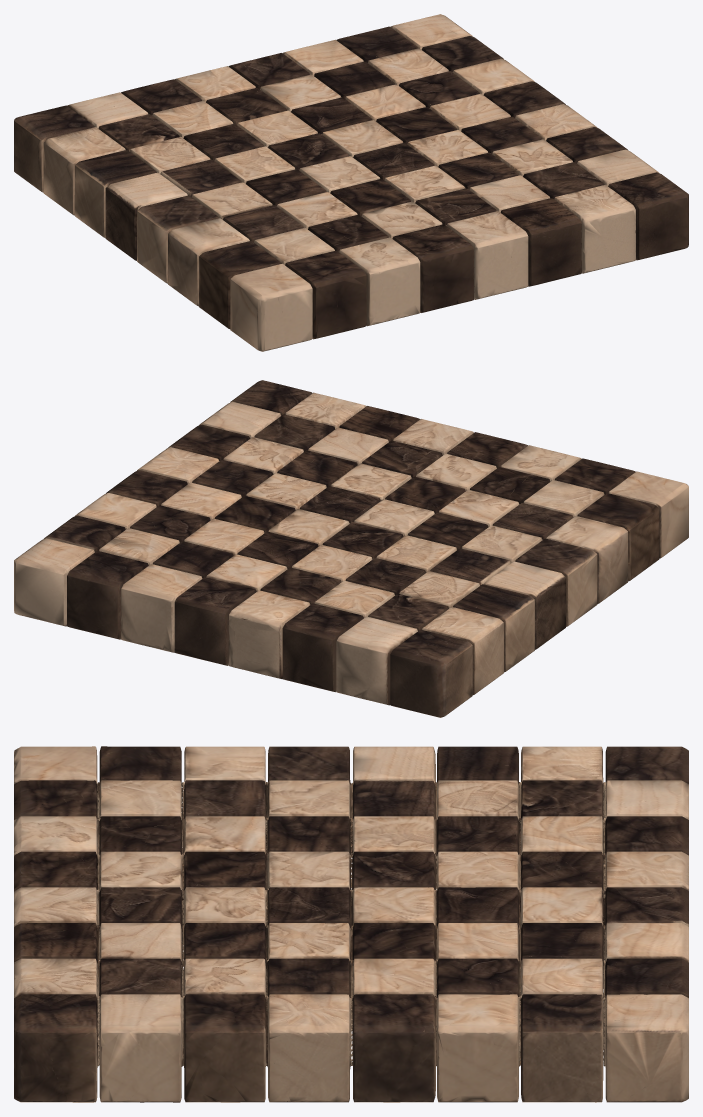
The model's file is old-school-board.glb.
3 views of the same model, one above another, from view 1: azimuth 30°, elevation 25°; view 2: azimuth 150°, elevation 25°; view 3: azimuth 270°, elevation 25° (orthographic). The views are drawn at different scales.
Parts seen in each view (by area): view 1: mesh_node; view 2: mesh_node; view 3: mesh_node.
Part boxes in pixels (x1=…): mesh_node: x1=14, y1=14, x2=688, y2=351; mesh_node: x1=14, y1=380, x2=688, y2=717; mesh_node: x1=14, y1=746, x2=688, y2=1102.
Size of the model in its own units: 1.9 by 0.2391 by 1.9.
1 material, 1 textured.
